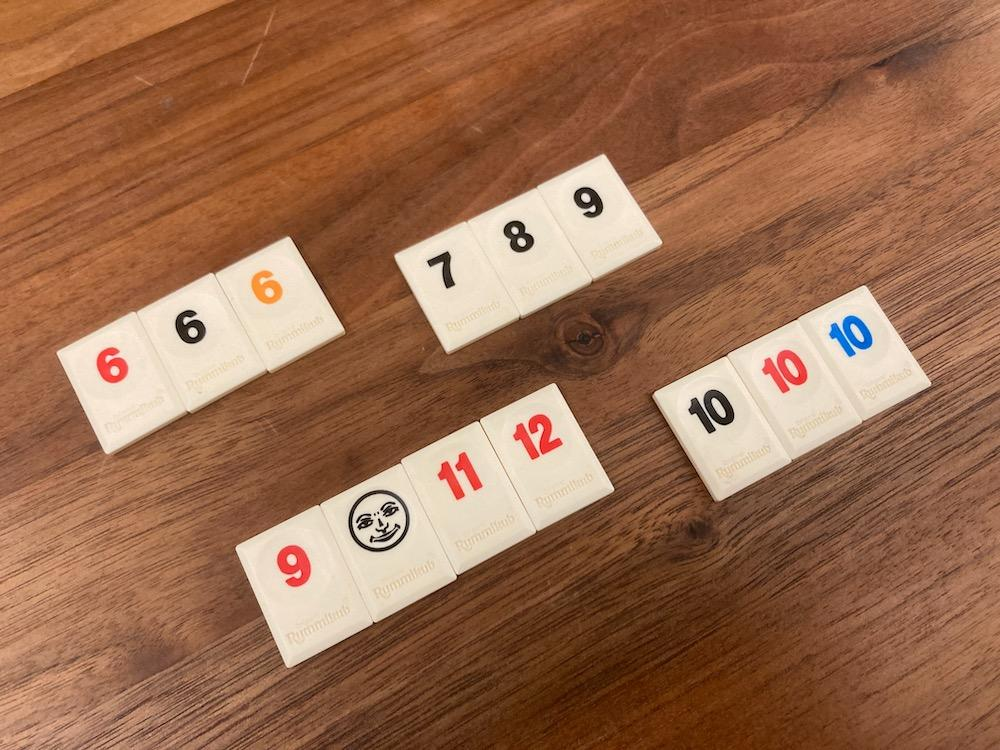black_10: (654, 357, 789, 500)
black_6: (139, 273, 266, 411)
black_7: (395, 223, 520, 353)
black_8: (469, 189, 592, 315)
black_9: (537, 154, 662, 279)
blue_10: (799, 287, 930, 419)
joker: (322, 465, 455, 620)
orange_6: (217, 236, 344, 370)
red_10: (729, 320, 861, 458)
red_11: (402, 422, 535, 573)
red_12: (480, 383, 613, 528)
red_6: (57, 312, 186, 453)
red_9: (236, 506, 373, 667)
